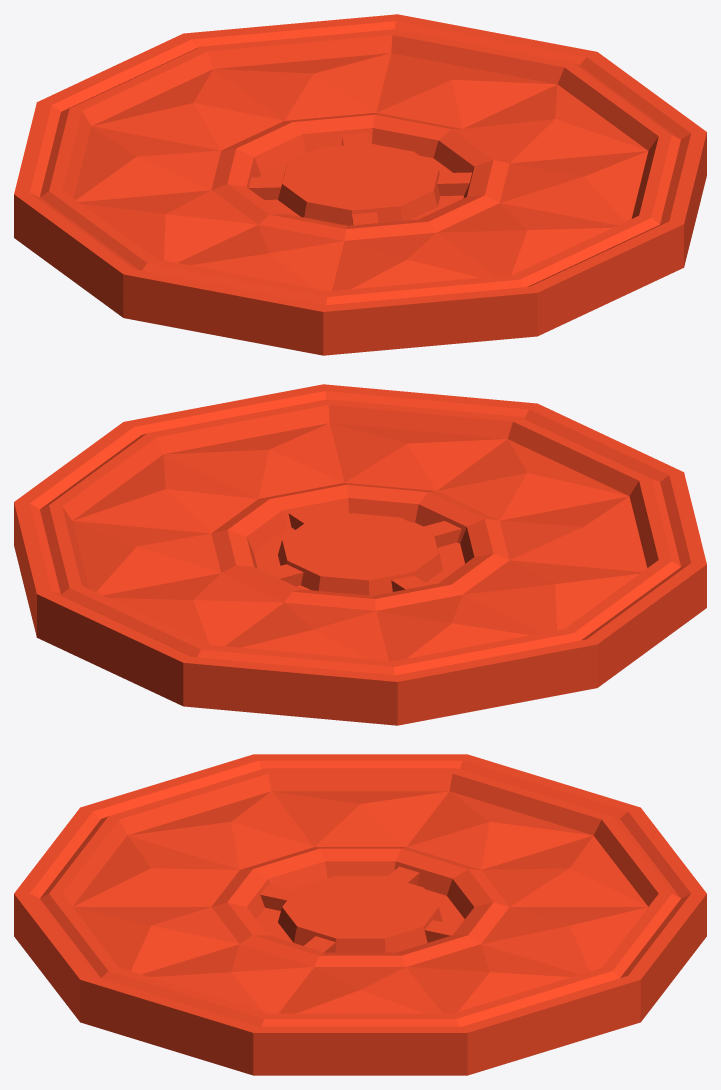
The model's file is SM_Manhole_City.fbx.
3 renders of one model, top to bottom at view 1: azimuth 30°, elevation 25°; view 2: azimuth 150°, elevation 25°; view 3: azimuth 270°, elevation 25°, orthographic. The views are drawn at different scales.
Visible parts, largest first — view 1: SM_Manhole_City; view 2: SM_Manhole_City; view 3: SM_Manhole_City.
Part boxes in pixels (x1=…): SM_Manhole_City: x1=14, y1=14, x2=706, y2=355; SM_Manhole_City: x1=14, y1=384, x2=706, y2=725; SM_Manhole_City: x1=14, y1=754, x2=706, y2=1075.
Size of the model in its own units: 0.6003 by 0.0429 by 0.6312.
